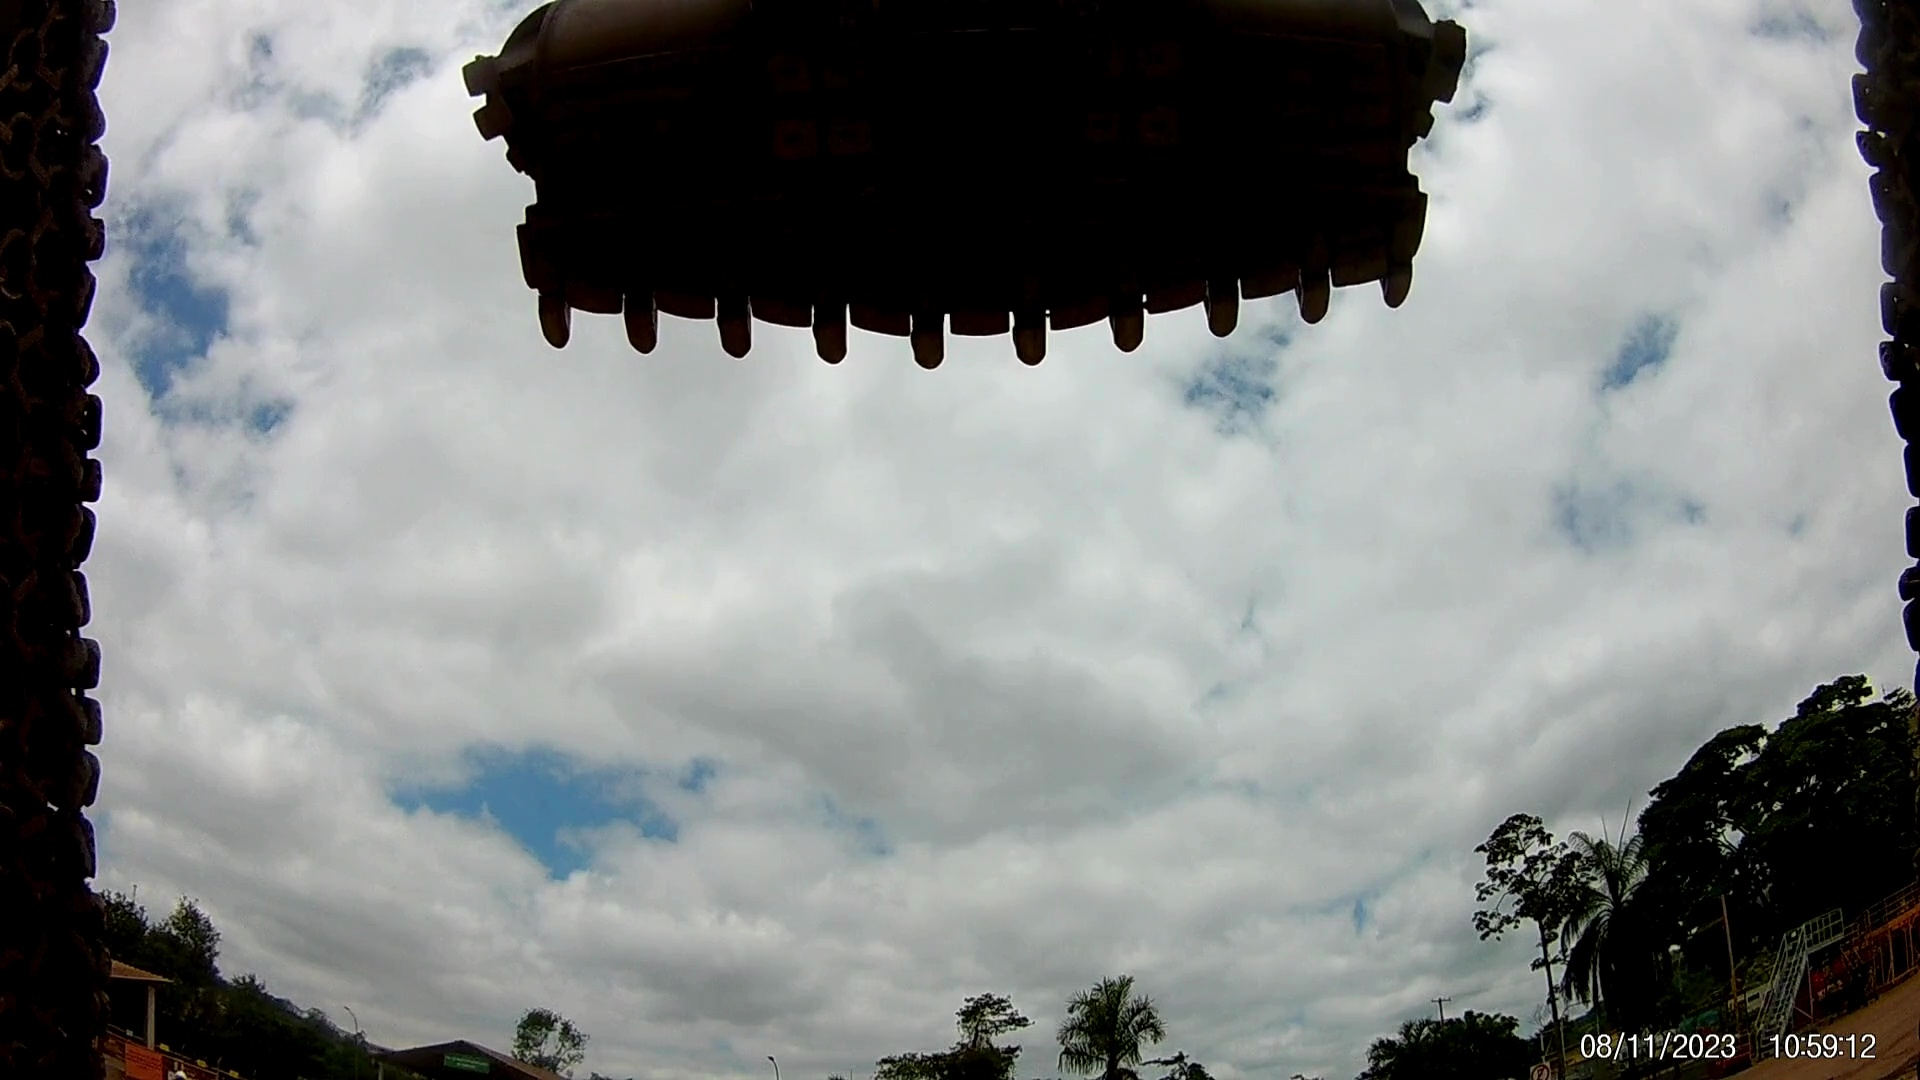FPS: (1001, 291, 1069, 386), (911, 286, 968, 392), (713, 274, 767, 376), (618, 281, 680, 367), (1189, 272, 1251, 349), (1294, 255, 1352, 336), (1375, 248, 1437, 324), (1101, 276, 1151, 365), (530, 274, 582, 353), (814, 291, 858, 375)
